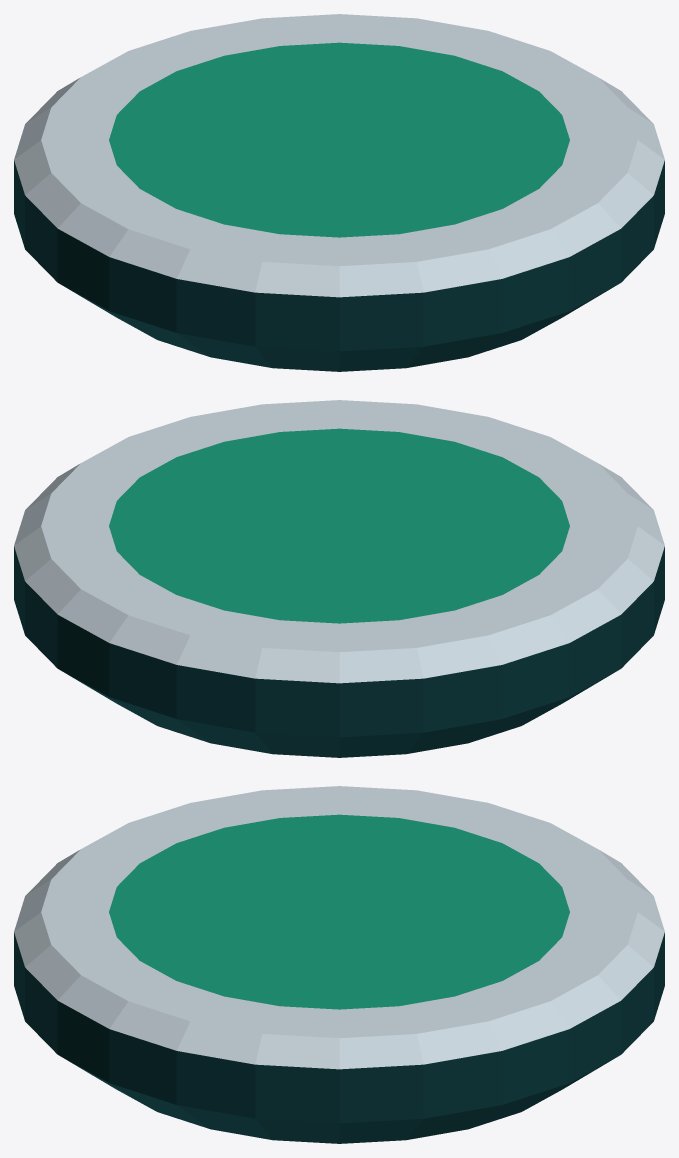
File: SM_StepStone.fbx
The picture shows the model from 3 angles, top to bottom: view 1: azimuth 30°, elevation 25°; view 2: azimuth 150°, elevation 25°; view 3: azimuth 270°, elevation 25°; orthographic projection.
Parts seen in each view (by area): view 1: SM_StepStone; view 2: SM_StepStone; view 3: SM_StepStone.
Boxes of the visible parts, x1=… form: SM_StepStone: x1=14, y1=14, x2=664, y2=371; SM_StepStone: x1=14, y1=400, x2=664, y2=757; SM_StepStone: x1=14, y1=786, x2=664, y2=1143.
Size of the model in its own units: 2.4 by 2.4 by 0.5.
